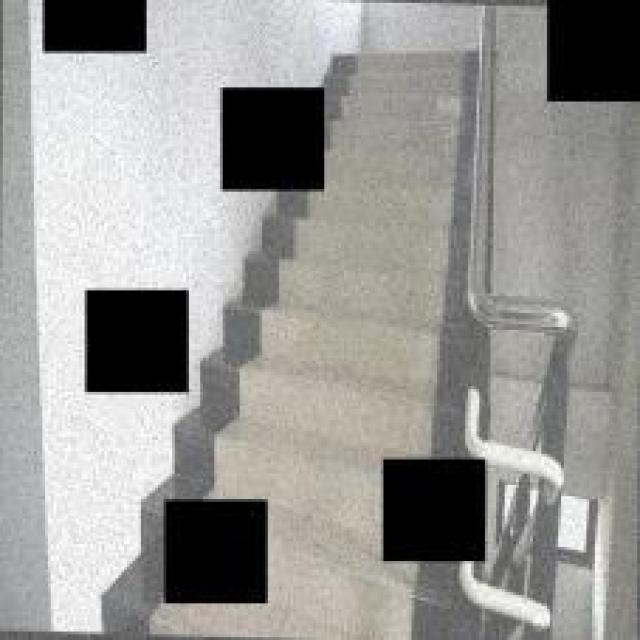upstair: (241, 201, 466, 447)
